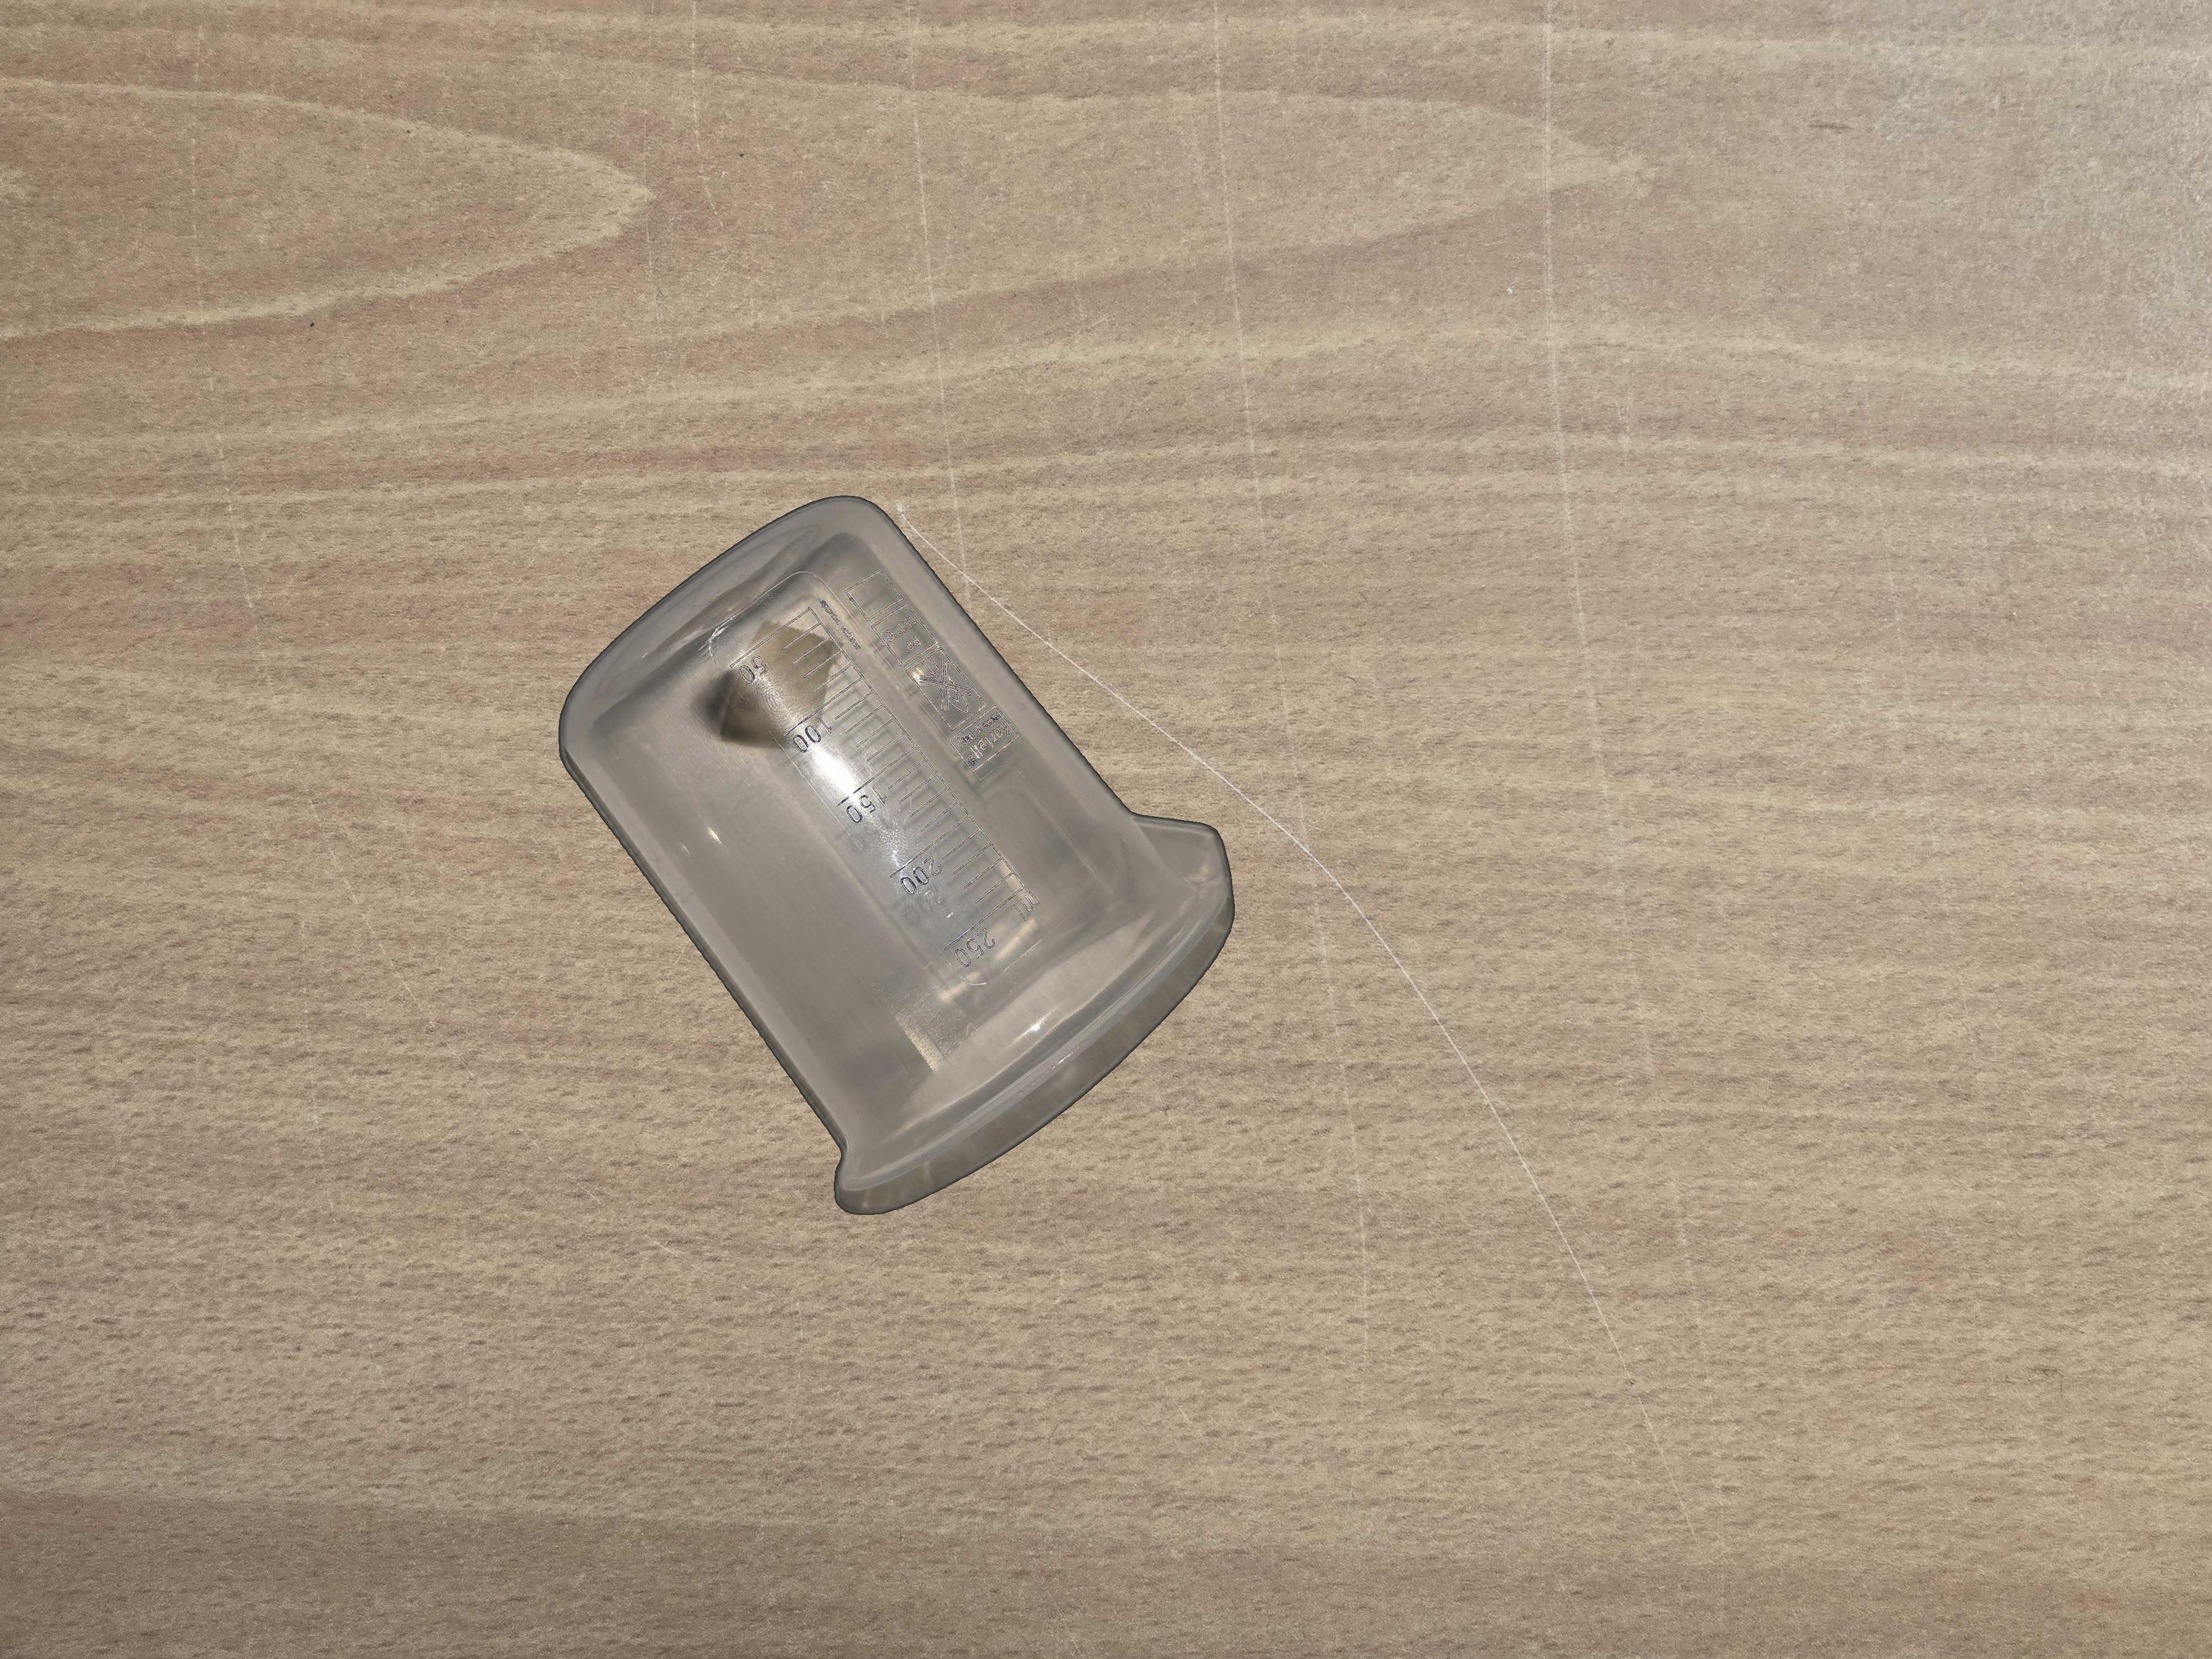becker: (552, 493, 1237, 1222)
